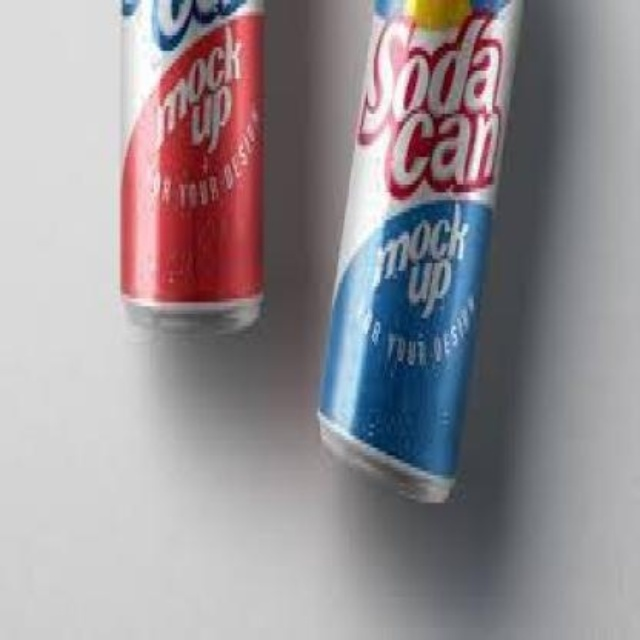trash: (318, 0, 520, 502), (122, 0, 263, 326)
